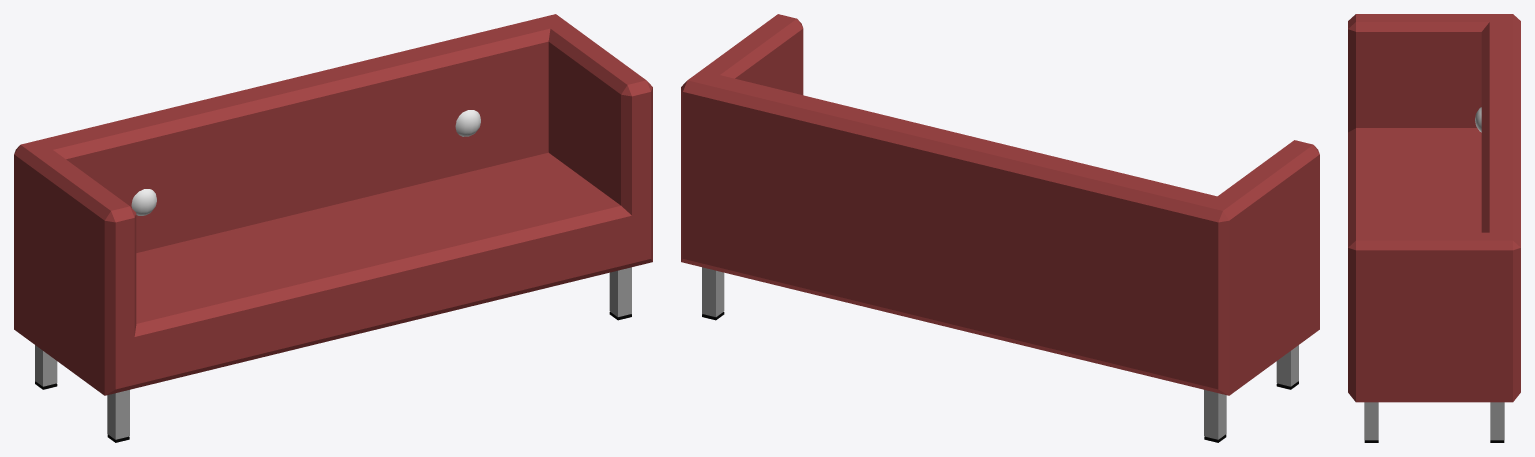
Rendered from soffa.fbx.
3 views of the same model, side by side, from view 1: azimuth 30°, elevation 25°; view 2: azimuth 150°, elevation 25°; view 3: azimuth 270°, elevation 25° (orthographic). The views are drawn at different scales.
Visible parts, largest first — view 1: sofa, legs, dots; view 2: sofa, legs; view 3: sofa, legs.
Part boxes in pixels (x1,y1,x2,y2): sofa: [14, 14, 652, 395]; legs: [35, 267, 631, 439]; dots: [131, 110, 480, 215]; sofa: [681, 14, 1319, 395]; legs: [702, 267, 1298, 439]; sofa: [1348, 14, 1520, 402]; legs: [1364, 402, 1504, 440].
Size of the model in its own units: 0.1991 by 0.0826 by 0.0627.
